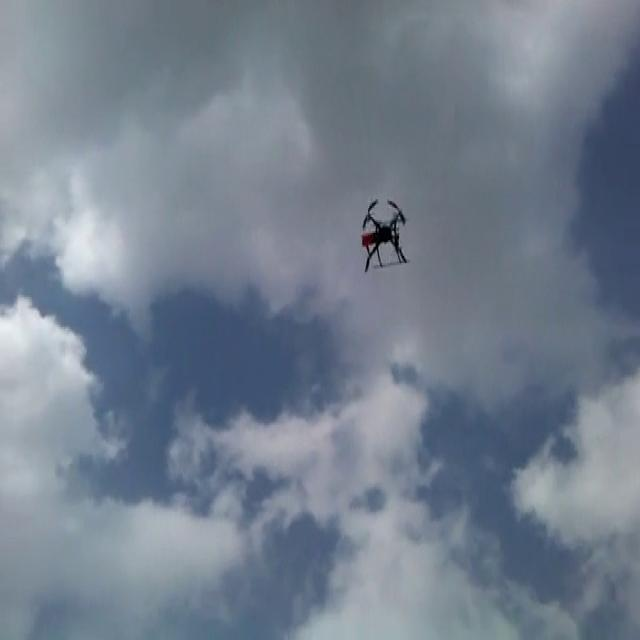drone: (358, 196, 409, 279)
